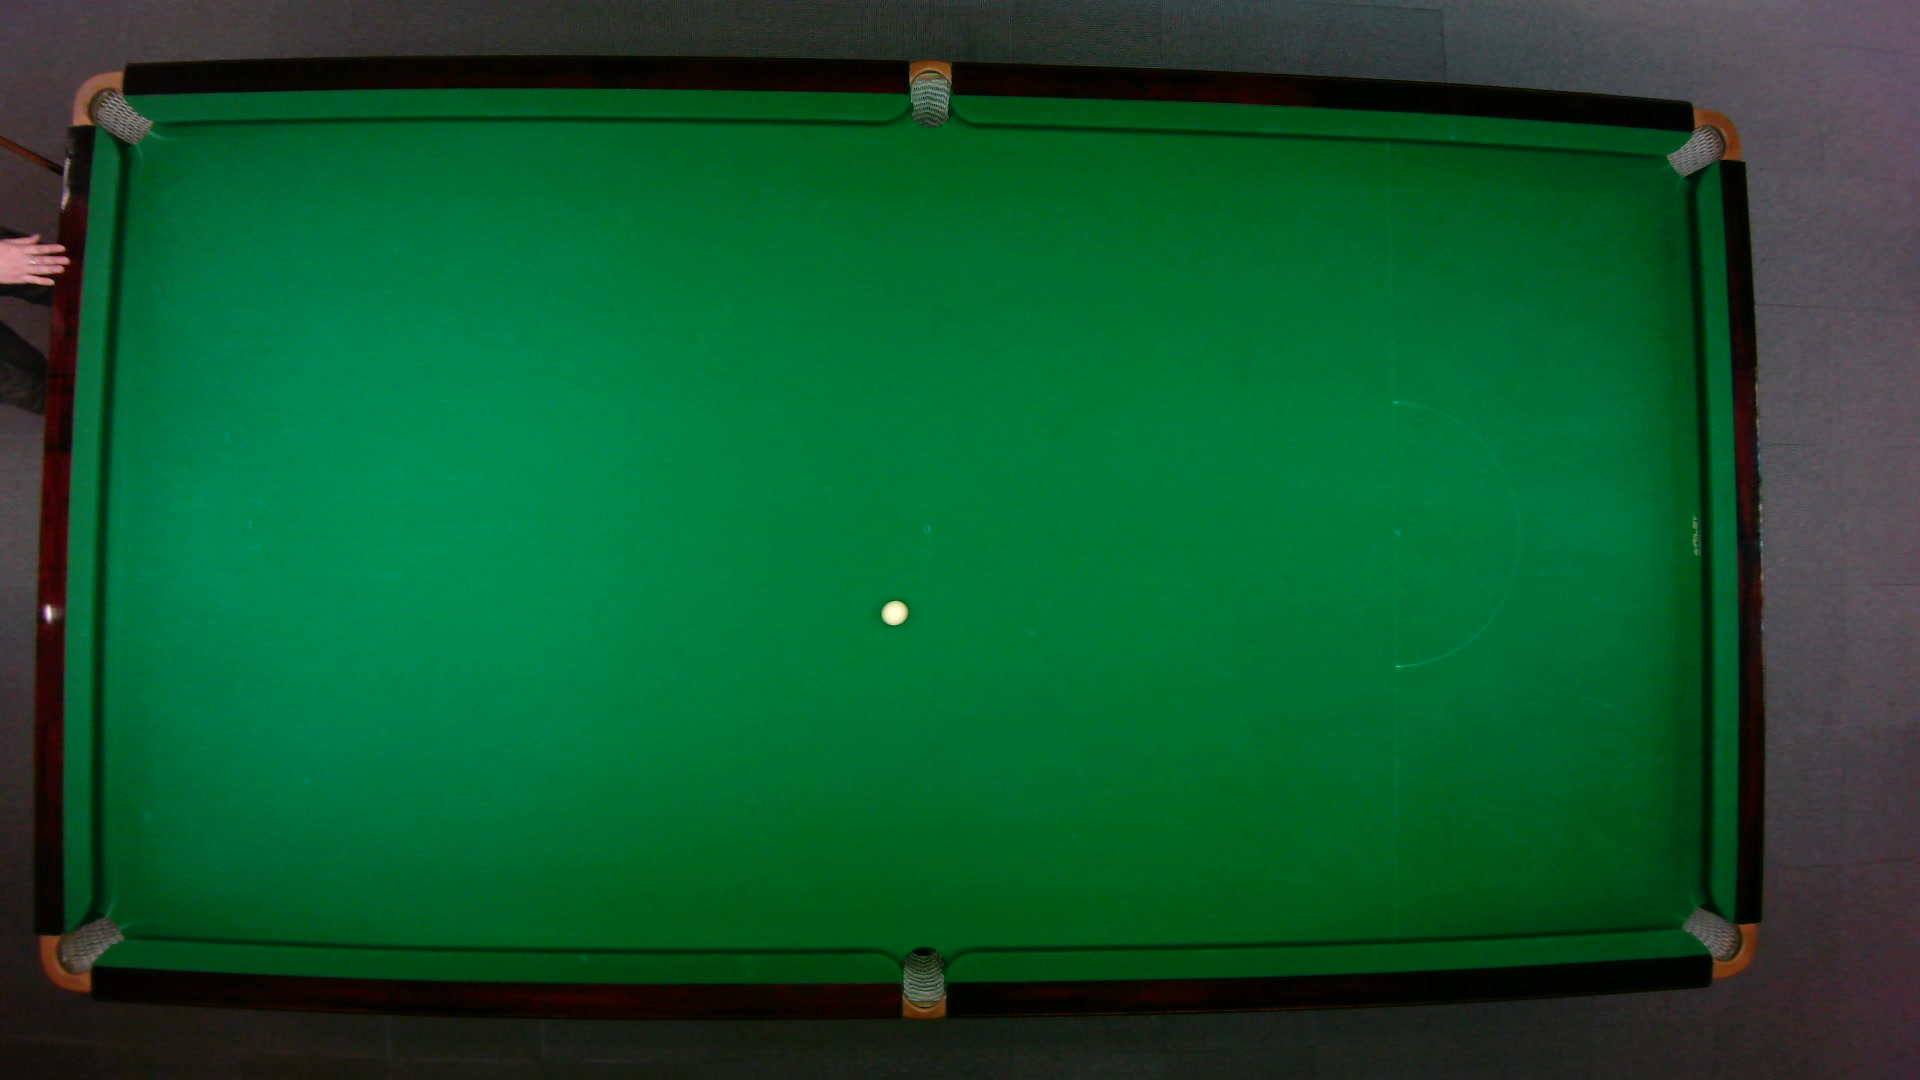bag: (37, 913, 125, 992), (69, 69, 153, 145), (1679, 905, 1756, 978), (1663, 107, 1742, 177), (901, 944, 944, 1021), (909, 57, 949, 128)
white: (880, 597, 909, 625)
zone: (1390, 400, 1520, 669)
